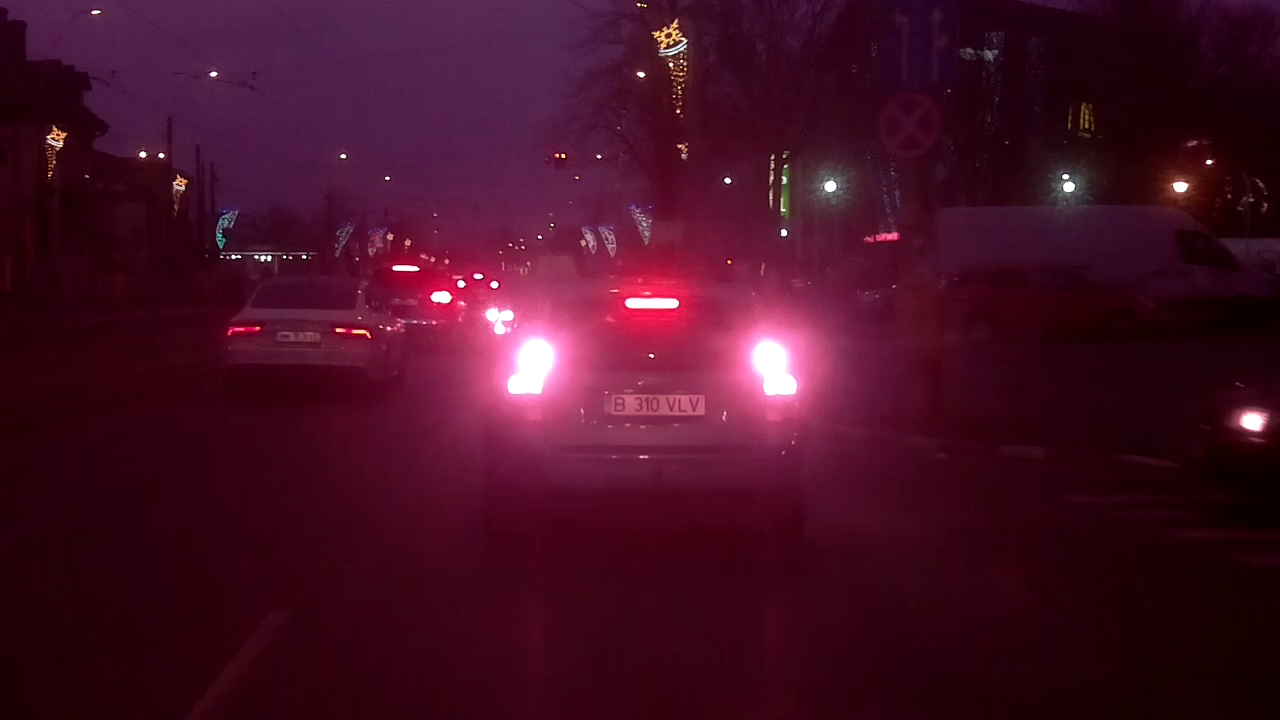license-plate: (598, 389, 709, 420)
